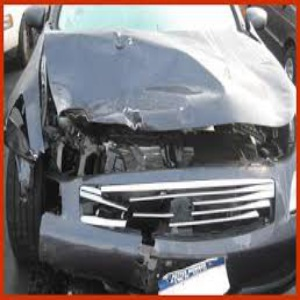bonnet: (44, 31, 300, 132)
bumper: (34, 211, 160, 291)
